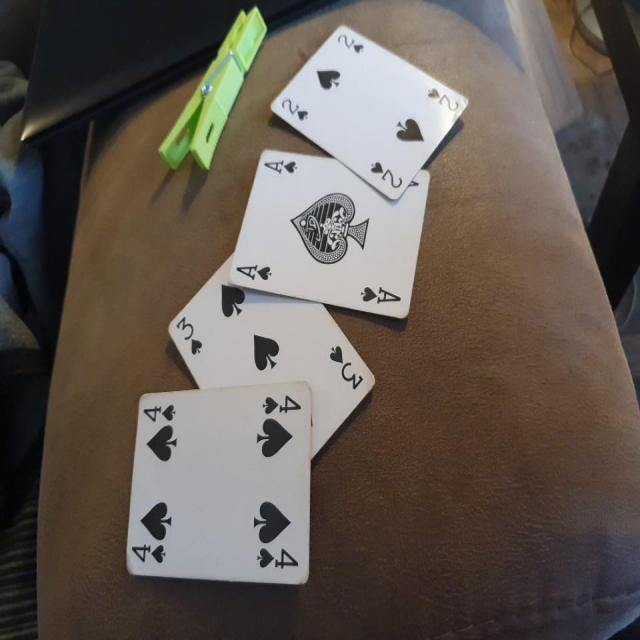2 Spades: (268, 23, 480, 201)
3 Spades: (148, 255, 372, 469)
4 Spades: (110, 378, 323, 596)
A Spades: (227, 149, 442, 338)
